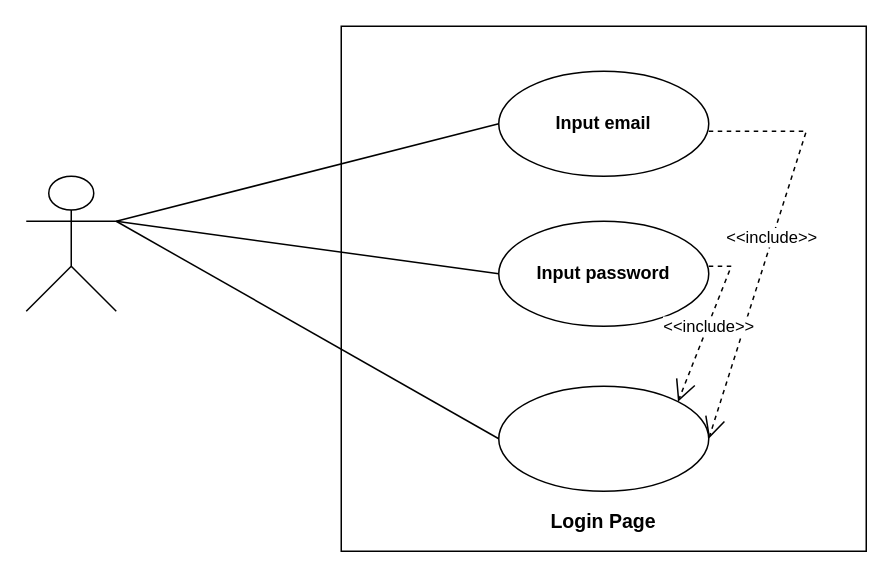
The diagram is 893 pixels wide and 578 high, and some of its shapes have lost their labels. Each missing label, with the box of its shape:
Login: (497, 385, 709, 491)
User: (25, 175, 116, 311)
